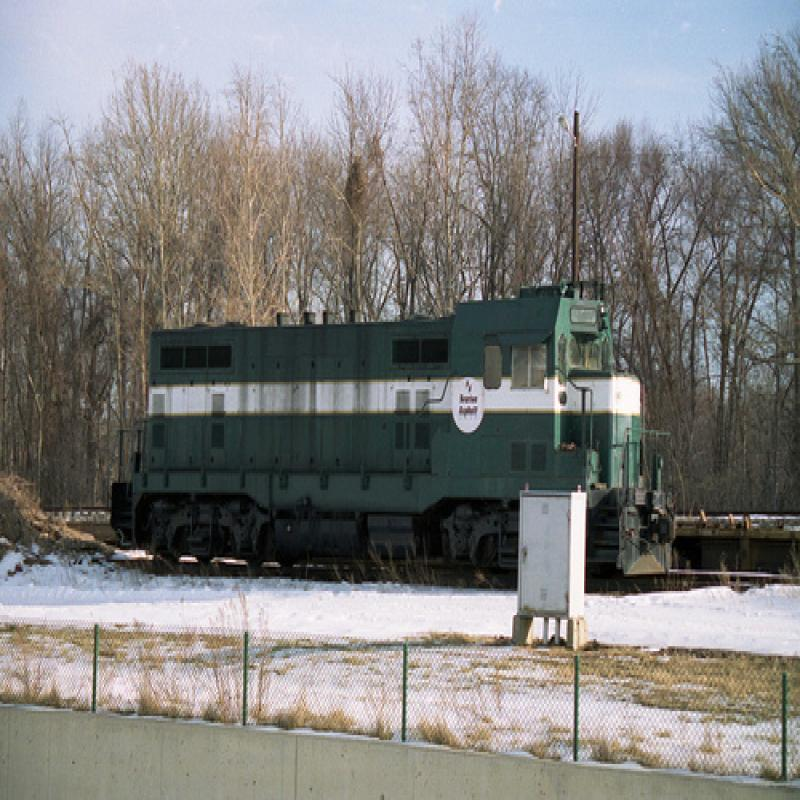train: (116, 282, 675, 587)
